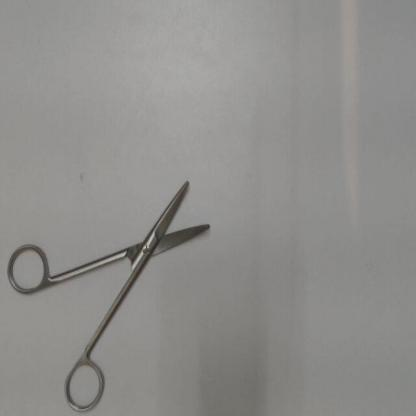Curved Mayo Scissors: (6, 172, 216, 414)
